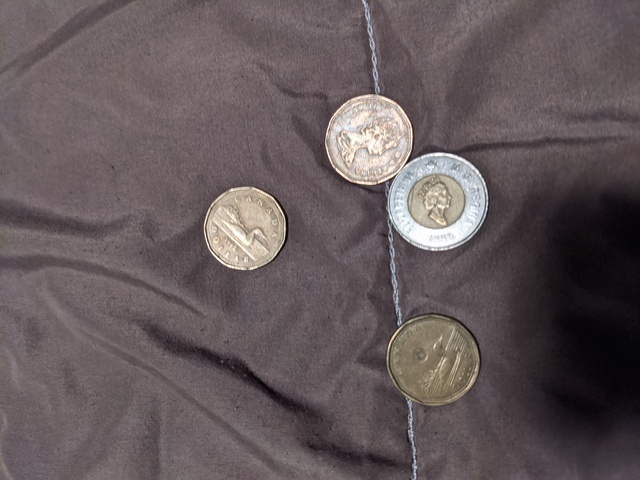loonie: (382, 307, 482, 412), (203, 183, 297, 276), (327, 98, 407, 187)
twonie: (373, 140, 493, 248)
